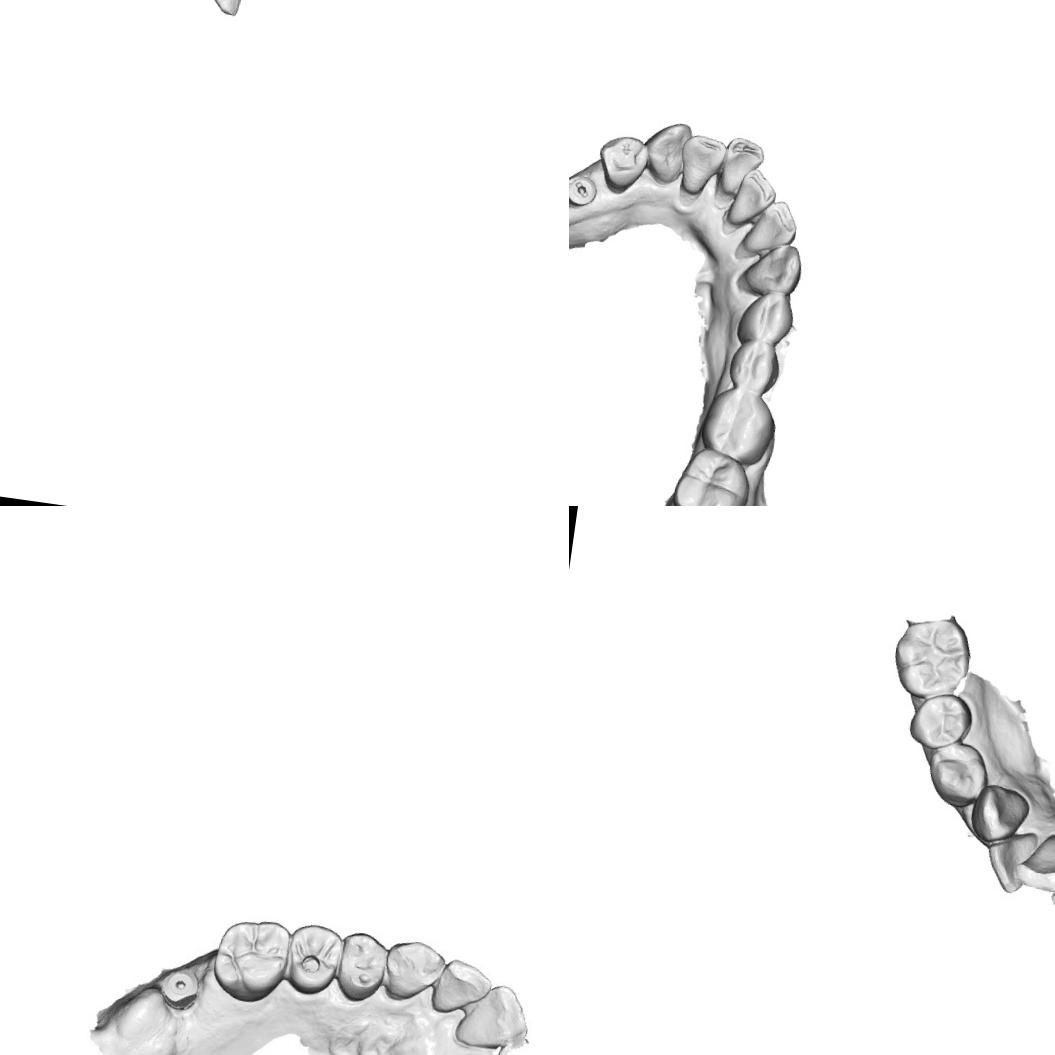canine: (734, 238, 808, 304), (964, 780, 1032, 850), (381, 936, 444, 1005), (638, 118, 695, 190)
implant: (152, 962, 206, 1015)
implant_minus: (569, 171, 600, 212)
incisor: (453, 978, 531, 1055), (732, 195, 802, 268), (721, 163, 780, 238), (430, 954, 496, 1020), (674, 128, 727, 201), (982, 826, 1036, 895), (717, 134, 768, 205), (1015, 832, 1055, 896)
molar: (208, 911, 298, 1009), (890, 613, 975, 702), (694, 382, 782, 466), (669, 442, 756, 506)
premolar: (280, 916, 349, 999), (924, 738, 992, 810), (906, 688, 976, 756), (330, 928, 390, 1006), (732, 286, 800, 352), (593, 130, 652, 198), (722, 335, 784, 395)
